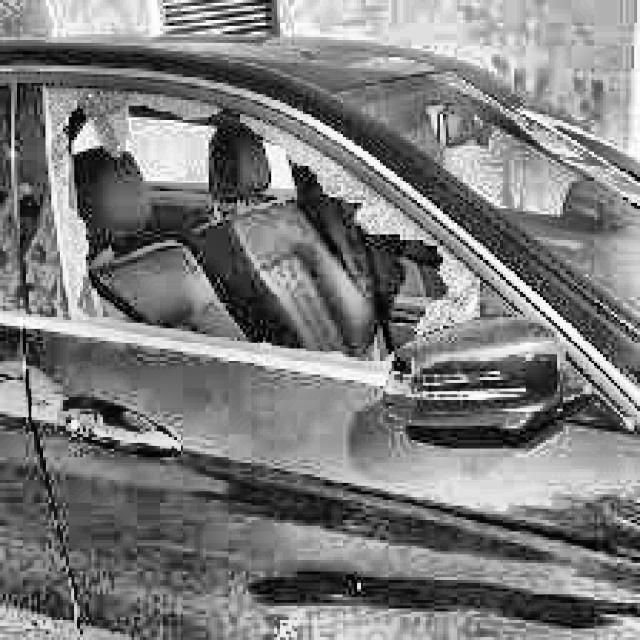glass_shatter: (63, 110, 374, 354)
